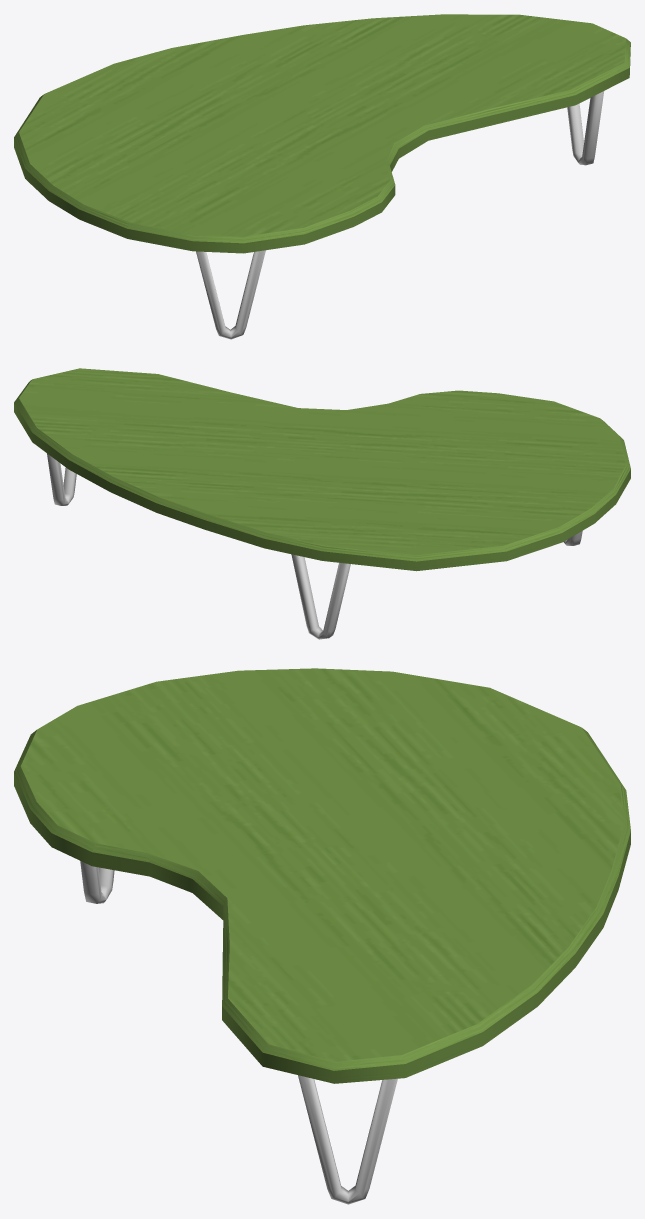
File: Kidney_Table_03.FBX
3 views of the same model, one above another, from view 1: azimuth 30°, elevation 25°; view 2: azimuth 150°, elevation 25°; view 3: azimuth 270°, elevation 25° (orthographic). The views are drawn at different scales.
Parts seen in each view (by area): view 1: Kidney_Bean_Table; view 2: Kidney_Bean_Table; view 3: Kidney_Bean_Table.
Boxes of the visible parts, x1,y1,x2,y2 form: Kidney_Bean_Table: [14, 14, 630, 339]; Kidney_Bean_Table: [14, 368, 630, 639]; Kidney_Bean_Table: [14, 668, 630, 1204].
Size of the model in its own units: 396 by 76.96 by 259.
